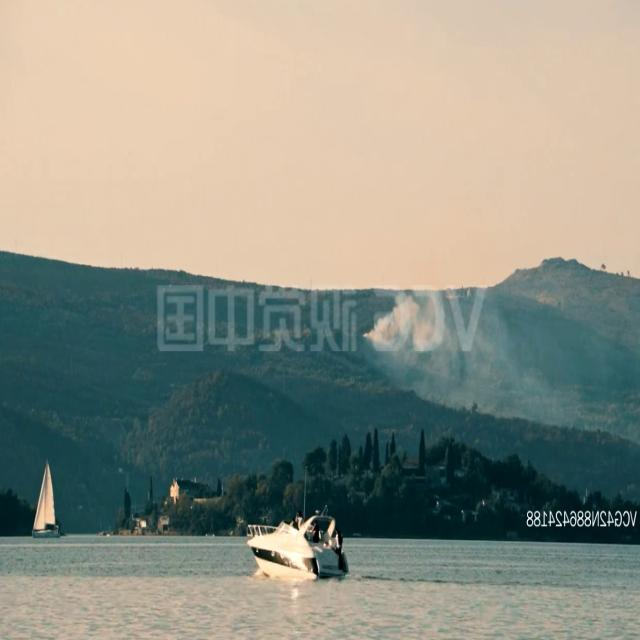houseboat: (245, 491, 354, 586)
sailboat: (28, 461, 62, 542)
